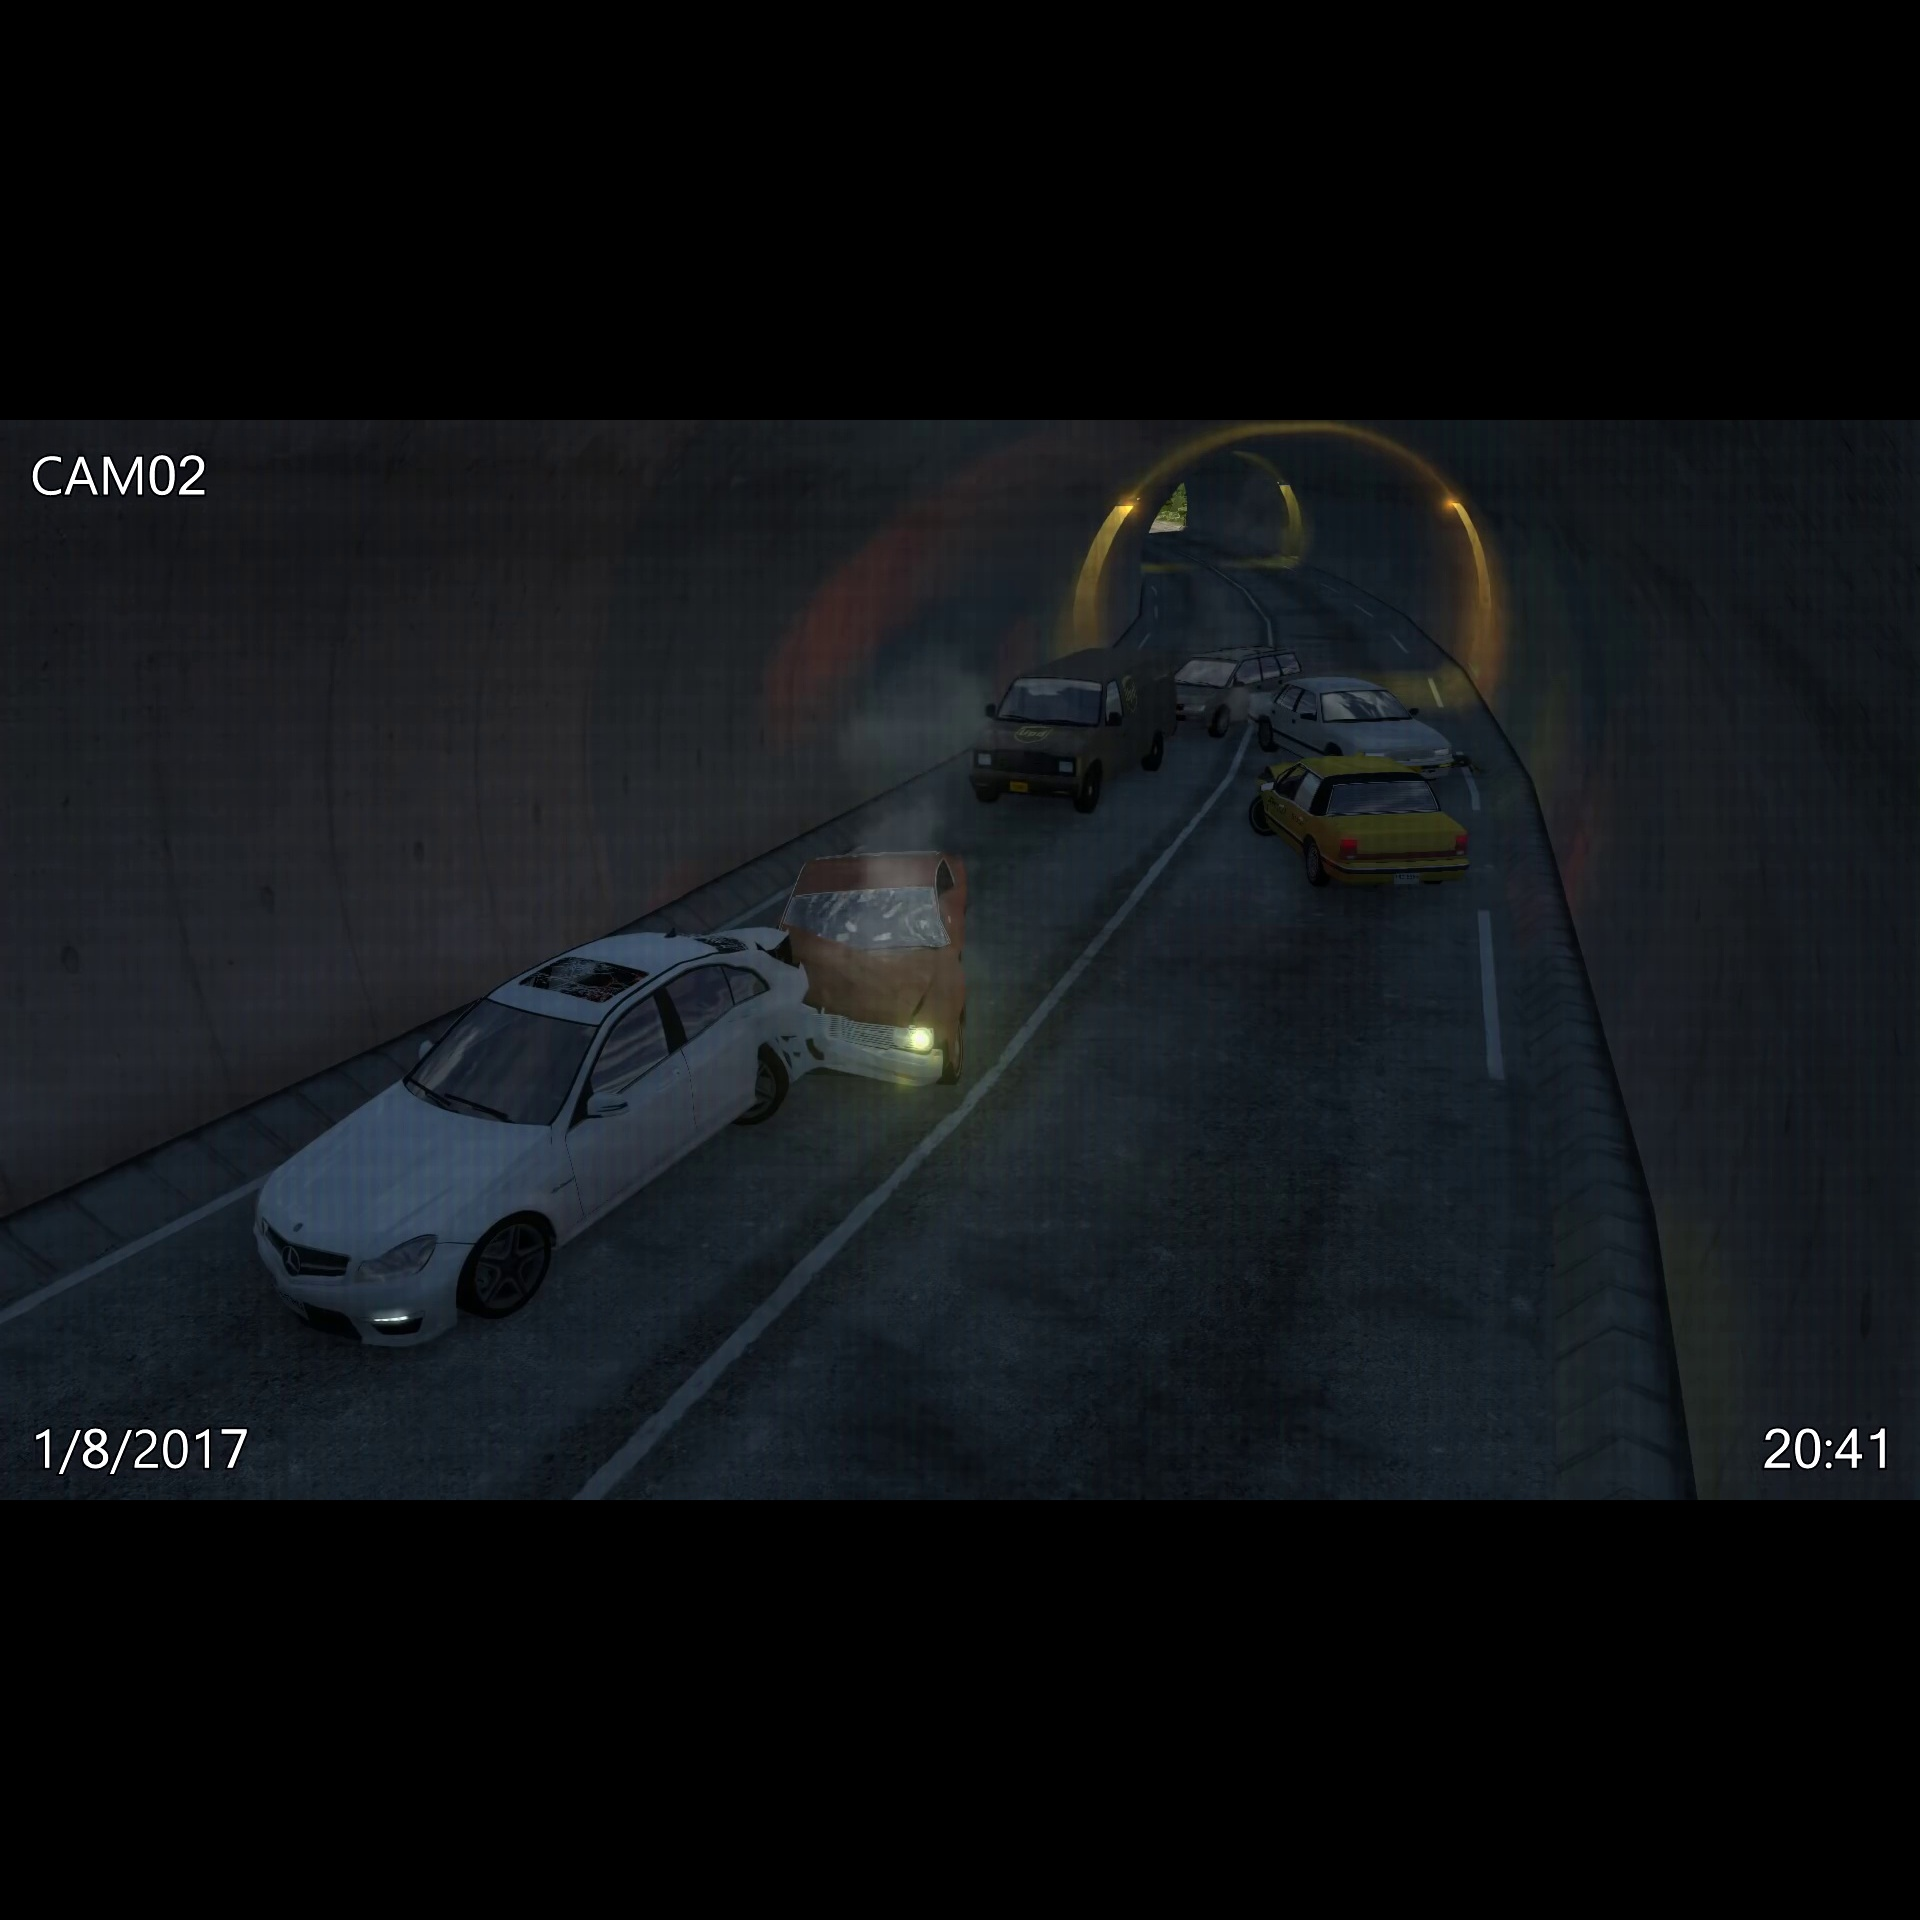vehicle: (246, 918, 818, 1371), (784, 839, 986, 1101), (965, 642, 1176, 823), (1247, 754, 1486, 898), (1248, 672, 1465, 760), (1176, 638, 1306, 737)
